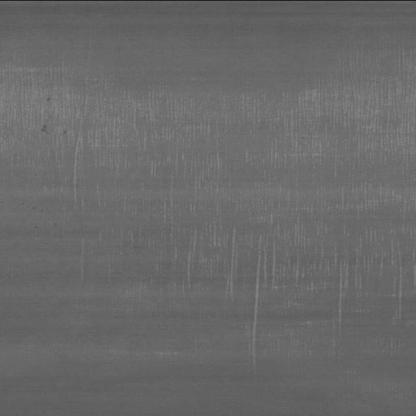waist_folding: (96, 98, 395, 378)
